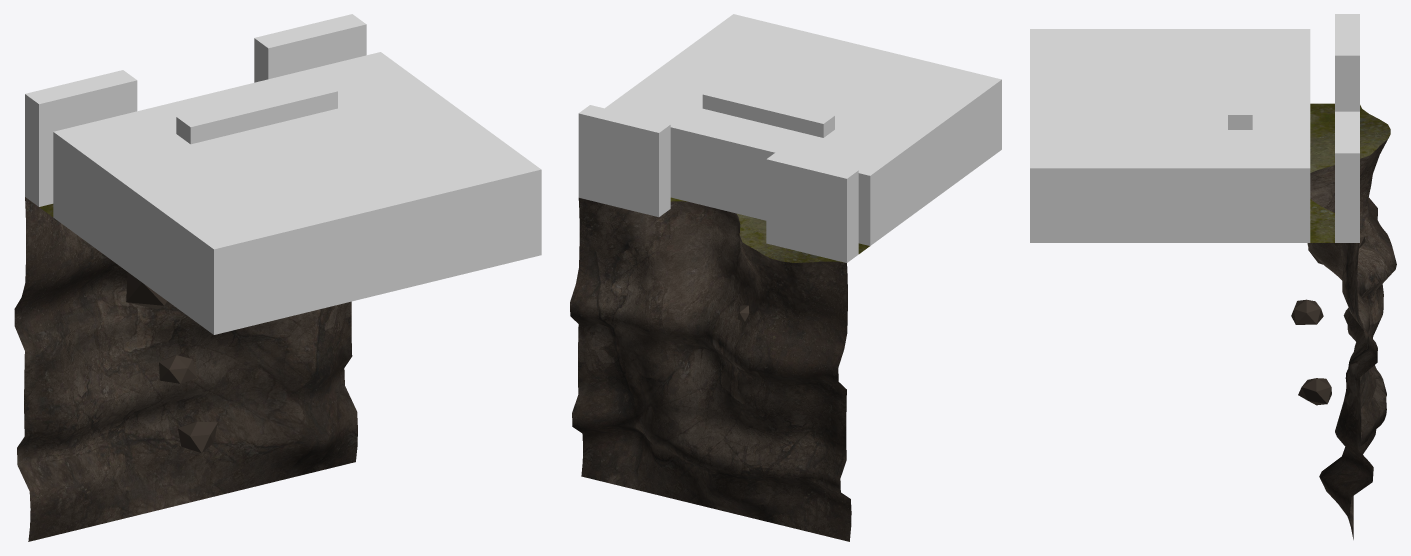
File: cliff_edge_broken_lip_4m.glb
3 views of the same model, side by side, from view 1: azimuth 30°, elevation 25°; view 2: azimuth 150°, elevation 25°; view 3: azimuth 270°, elevation 25° (orthographic). The views are drawn at different scales.
Visible parts, largest first — view 1: col_walk_cliff_edge_broken_lip_4m, cliff_edge_broken_lip_4m, col_block_rim_cliff_edge_broken_lip_4m_0, col_block_rim_cliff_edge_broken_lip_4m_1, col_block_rim_cliff_edge_broken_lip_4m_2; view 2: cliff_edge_broken_lip_4m, col_walk_cliff_edge_broken_lip_4m, col_block_rim_cliff_edge_broken_lip_4m_0, col_block_rim_cliff_edge_broken_lip_4m_1, col_block_rim_cliff_edge_broken_lip_4m_2; view 3: col_walk_cliff_edge_broken_lip_4m, cliff_edge_broken_lip_4m, col_block_rim_cliff_edge_broken_lip_4m_1, col_block_rim_cliff_edge_broken_lip_4m_0, col_block_rim_cliff_edge_broken_lip_4m_2.
Part boxes in pixels (<box>): col_walk_cliff_edge_broken_lip_4m: <box>53,52,541,334</box>; cliff_edge_broken_lip_4m: <box>14,197,357,541</box>; col_block_rim_cliff_edge_broken_lip_4m_0: <box>25,70,137,206</box>; col_block_rim_cliff_edge_broken_lip_4m_1: <box>254,14,366,82</box>; col_block_rim_cliff_edge_broken_lip_4m_2: <box>176,81,337,144</box>; cliff_edge_broken_lip_4m: <box>570,197,869,541</box>; col_walk_cliff_edge_broken_lip_4m: <box>605,14,1001,245</box>; col_block_rim_cliff_edge_broken_lip_4m_0: <box>766,151,858,262</box>; col_block_rim_cliff_edge_broken_lip_4m_1: <box>578,105,670,217</box>; col_block_rim_cliff_edge_broken_lip_4m_2: <box>702,86,834,137</box>; col_walk_cliff_edge_broken_lip_4m: <box>1030,29,1310,242</box>; cliff_edge_broken_lip_4m: <box>1291,103,1396,539</box>; col_block_rim_cliff_edge_broken_lip_4m_1: <box>1335,111,1359,242</box>; col_block_rim_cliff_edge_broken_lip_4m_0: <box>1335,14,1359,111</box>; col_block_rim_cliff_edge_broken_lip_4m_2: <box>1228,52,1252,129</box>.
Bounding box in the file's own units: 4 × 5.2 × 4.45.
Materials: 2 (2 with a texture image).
